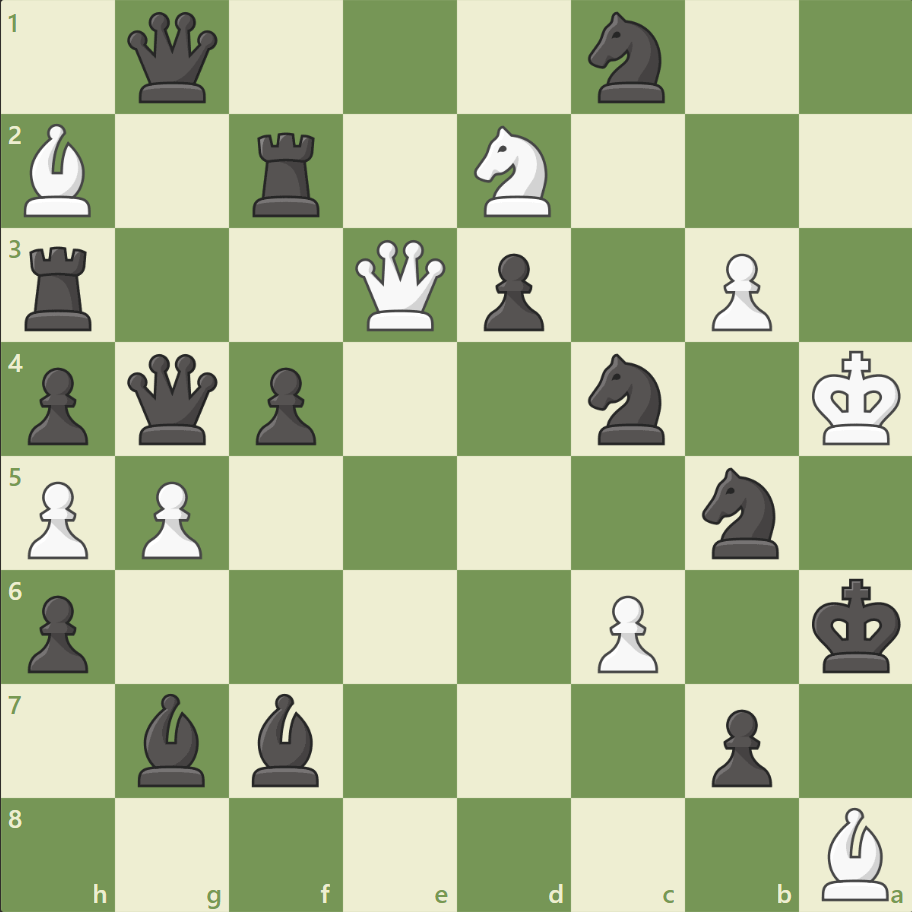B: (812, 801, 896, 904), (17, 120, 101, 222)
K: (806, 344, 906, 452)
N: (465, 121, 562, 223)
P: (133, 473, 208, 564), (20, 473, 95, 564), (701, 246, 776, 337), (588, 586, 662, 677)
Q: (351, 236, 450, 335)
b: (244, 687, 328, 790), (131, 687, 215, 790)
k: (806, 571, 906, 679)
n: (692, 461, 789, 564), (579, 7, 676, 110), (579, 348, 676, 450)
p: (701, 700, 776, 791), (20, 586, 95, 677), (247, 359, 322, 450), (20, 359, 95, 450), (474, 246, 549, 337)
q: (124, 349, 223, 449), (124, 9, 223, 108)
r: (19, 239, 102, 336), (246, 125, 329, 222)
